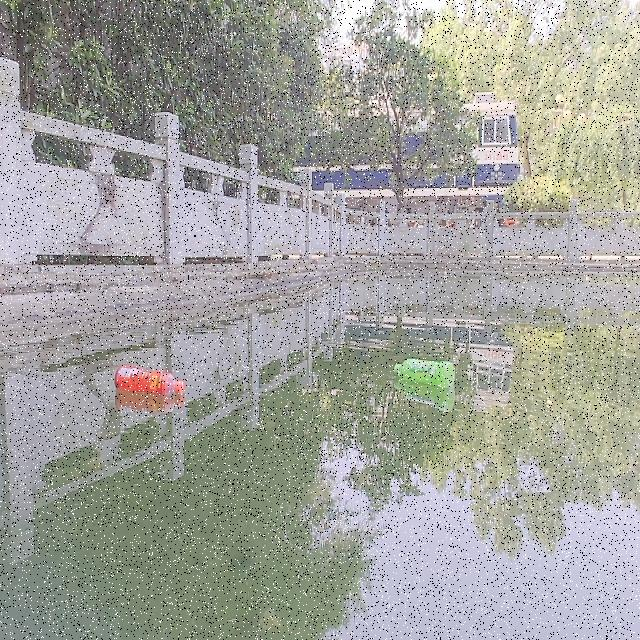bottle: (114, 362, 185, 398), (393, 358, 455, 390)
